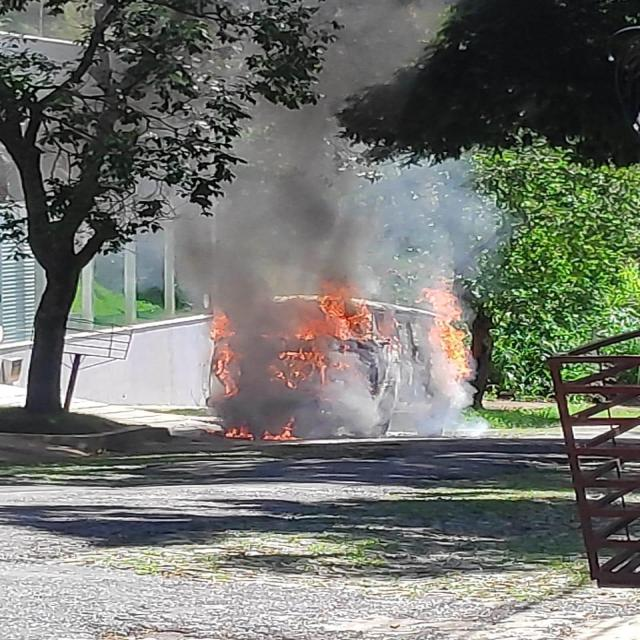Fire: (272, 286, 389, 388), (415, 284, 481, 372), (212, 309, 239, 399), (262, 419, 299, 442), (224, 425, 256, 437)
